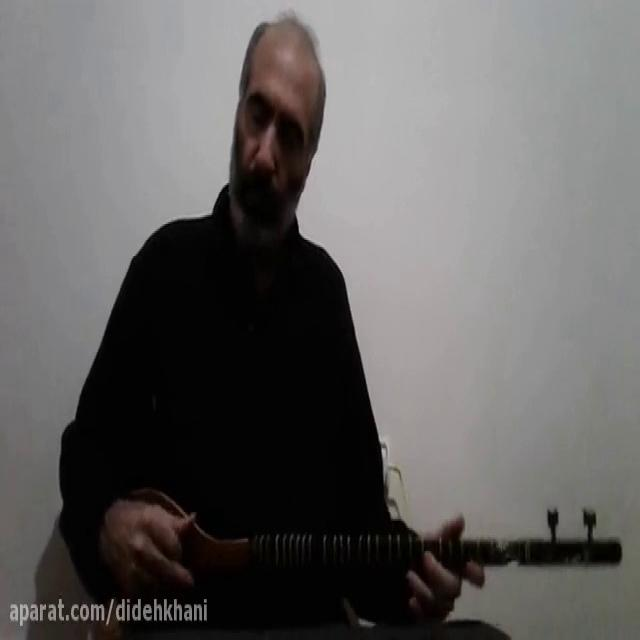Setar: (92, 482, 629, 618)
